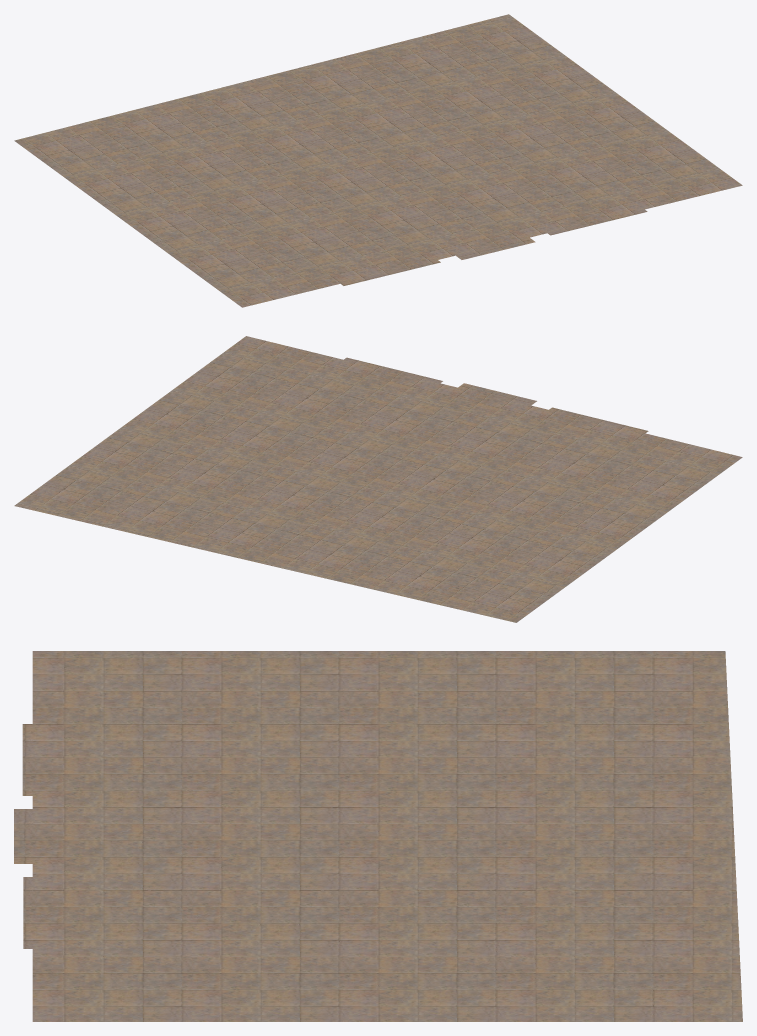
File: celling.glb
3 renders of one model, top to bottom at view 1: azimuth 30°, elevation 25°; view 2: azimuth 150°, elevation 25°; view 3: azimuth 270°, elevation 25°, orthographic. The views are drawn at different scales.
Parts seen in each view (by area): view 1: Tiles; view 2: Tiles; view 3: Tiles.
Part boxes in pixels (x1,y1,x2,y2): Tiles: (14, 14, 742, 307); Tiles: (14, 336, 742, 622); Tiles: (14, 651, 742, 1021).
Size of the model in its own units: 21.6 by 1.79e-07 by 17.95.
Materials: 1 (1 with a texture image).
